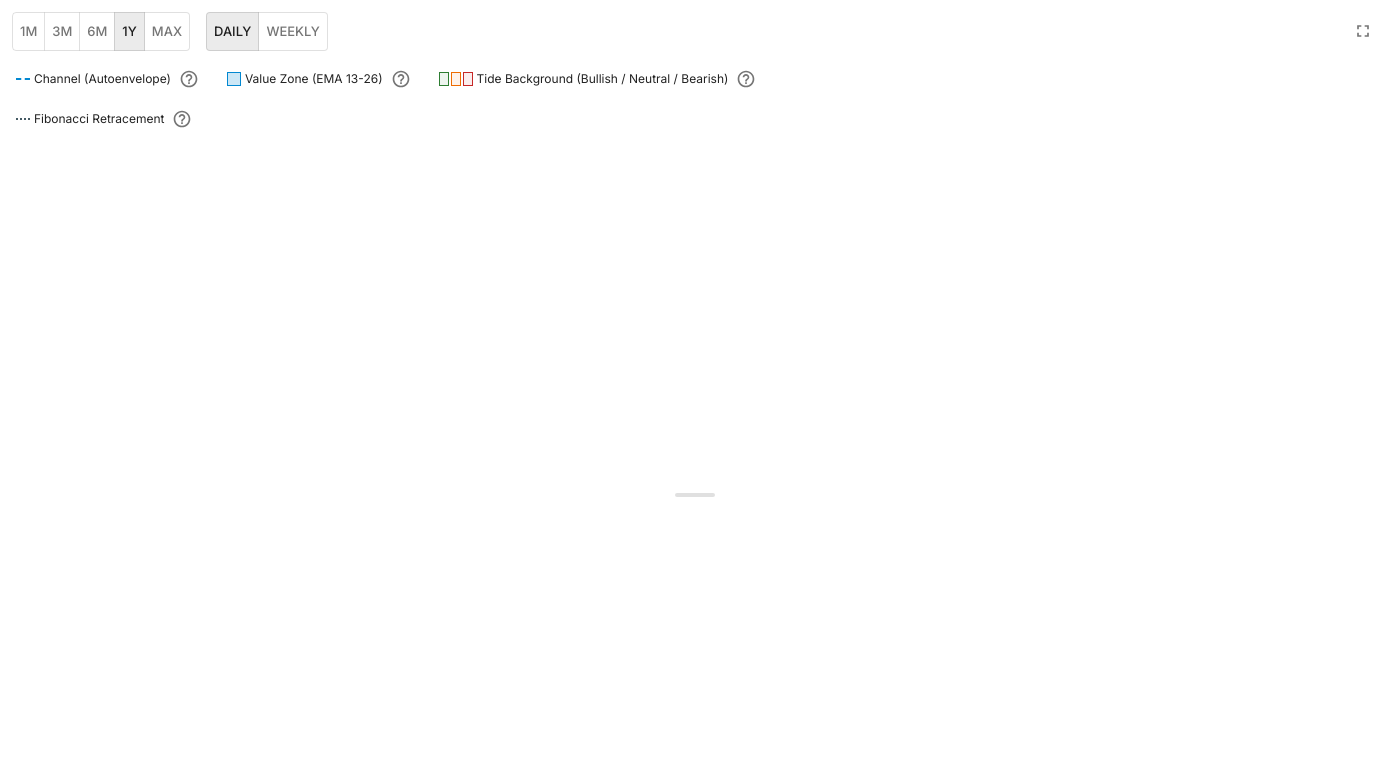
Test case: PriceChart › Fibonacci auto-retracement levels (frontend-fibonacci-auto-levels) › shows the Fibonacci Retracement legend describing the current swing and every level
expect the text "Fibonacci Retracement" is shown: met, box 34,109 -> 164,129
Click the button named "Fibonacci Retracement help": (182,119) 172,109 -> 192,129
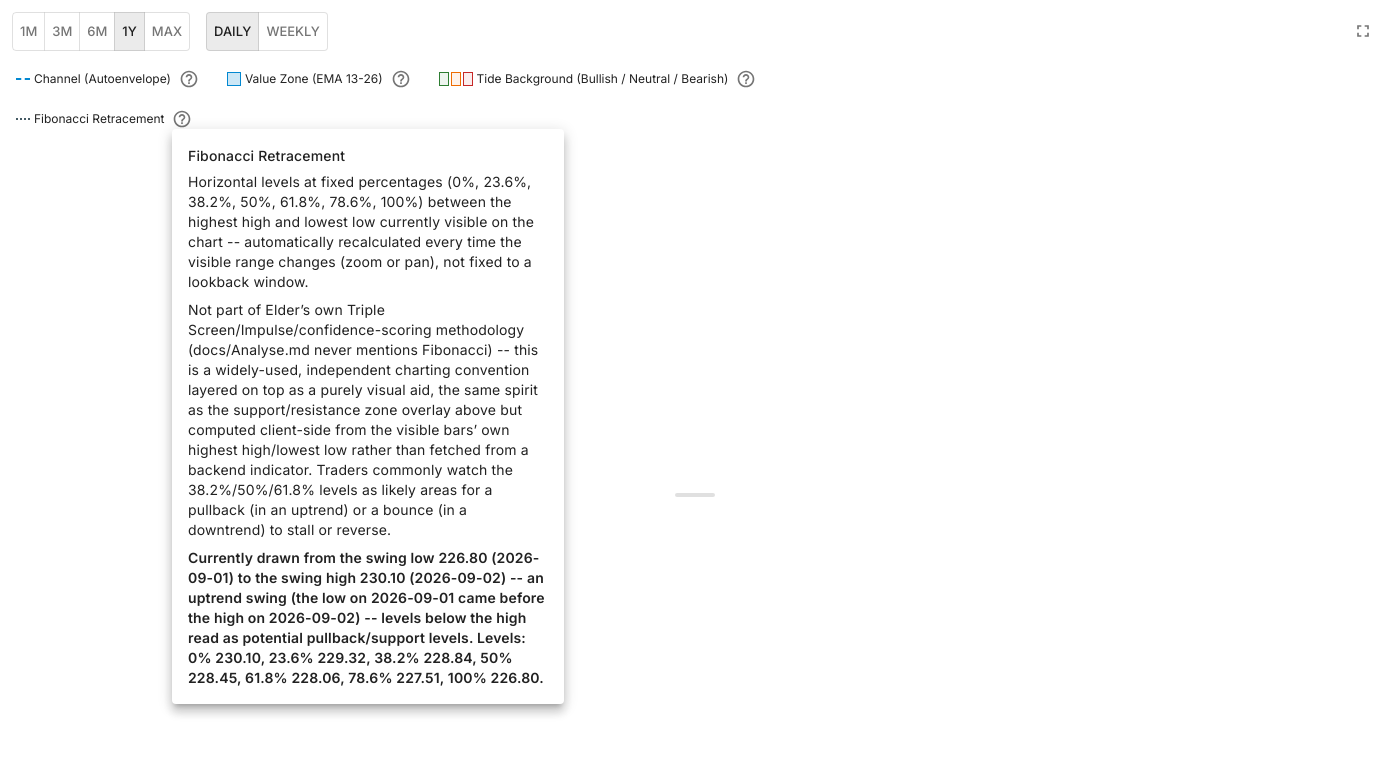
expect the text "61.8% 228.06" is shown: met, box 188,549 -> 545,686
